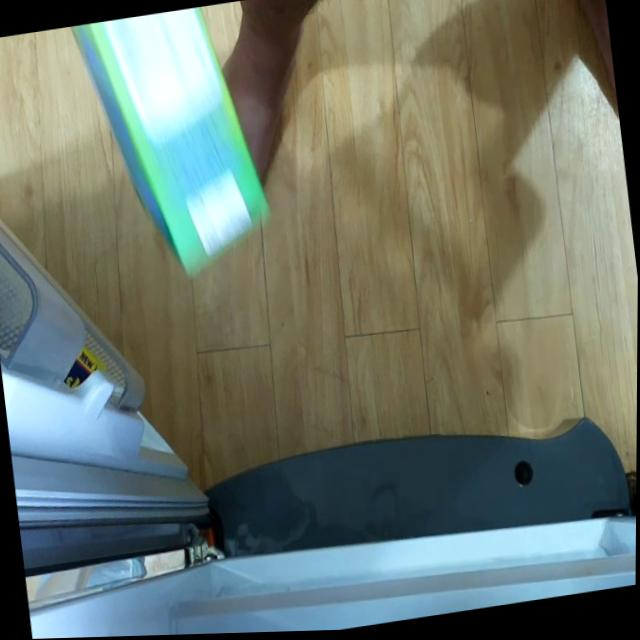milk: (69, 0, 280, 286)
